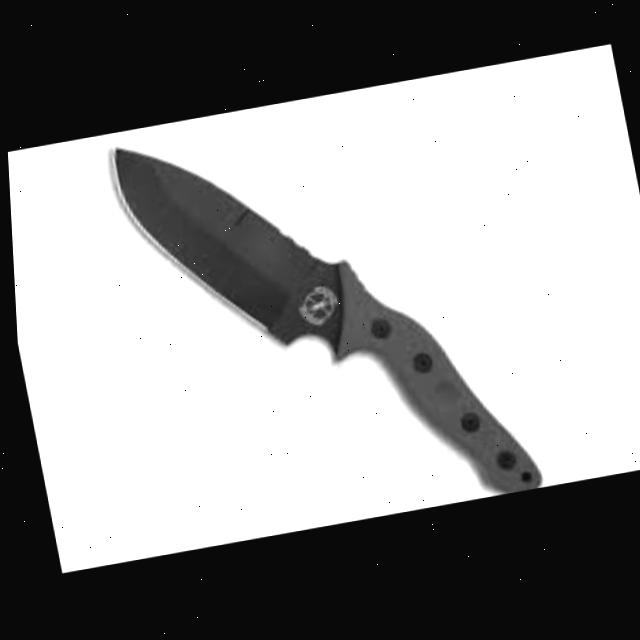Knife: (99, 84, 540, 554)
